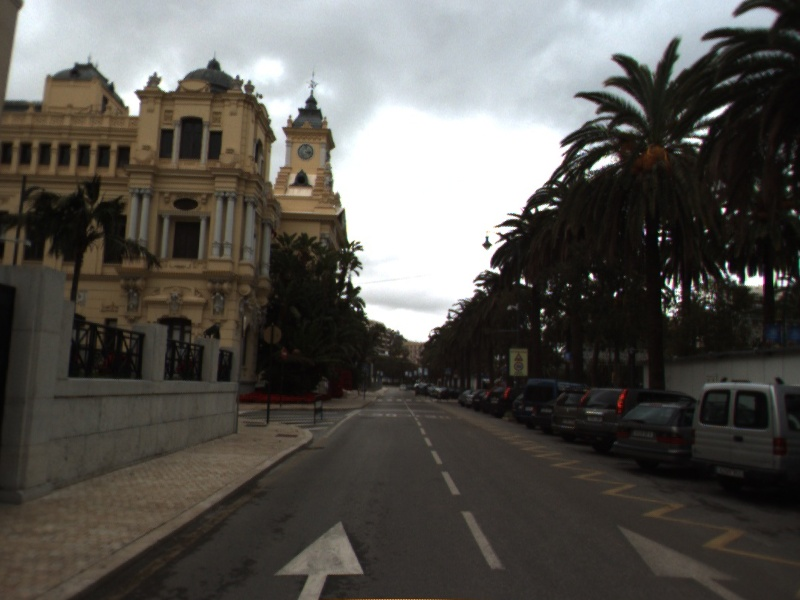STRAIGHT: (613, 518, 750, 600), (269, 516, 369, 600)
